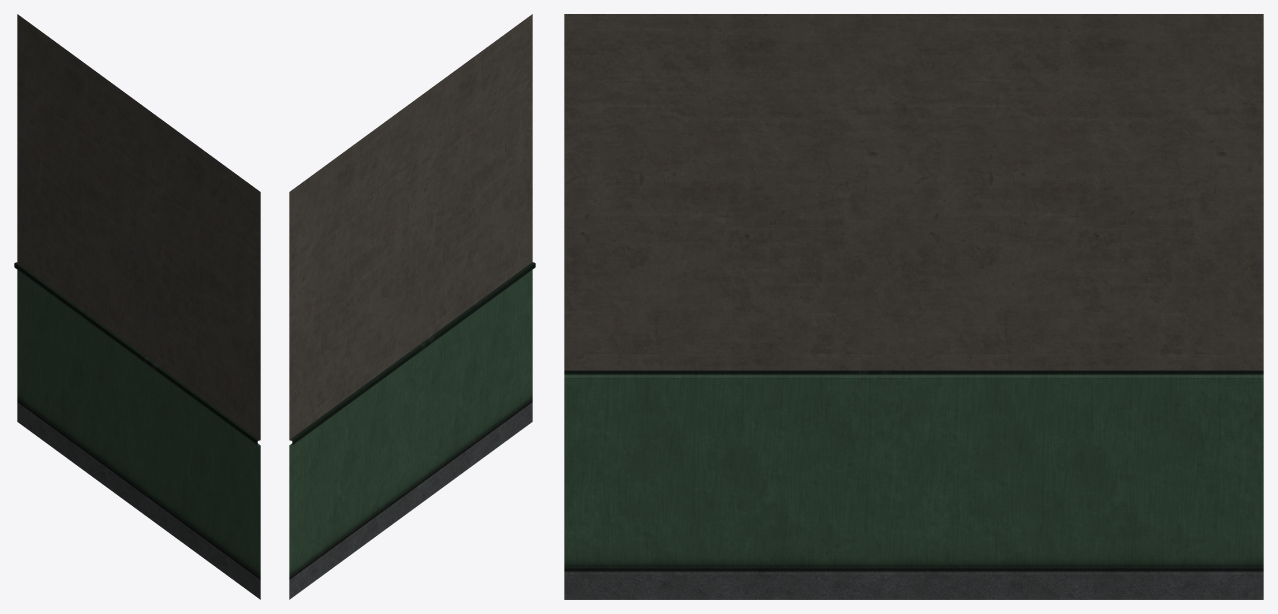
The model's file is Psychiatric_Ward_Infirmary_Wall_4m_Bare.glb.
3 views of the same model, side by side, from view 1: azimuth 30°, elevation 25°; view 2: azimuth 150°, elevation 25°; view 3: azimuth 270°, elevation 25° (orthographic). The views are drawn at different scales.
Visible parts, largest first — view 1: Psychiatric_Ward_Infirmary_Wall_4m_Bare; view 2: Psychiatric_Ward_Infirmary_Wall_4m_Bare; view 3: Psychiatric_Ward_Infirmary_Wall_4m_Bare.
Part boxes in pixels (x1,y1,x2,y2): Psychiatric_Ward_Infirmary_Wall_4m_Bare: (14, 14, 260, 599); Psychiatric_Ward_Infirmary_Wall_4m_Bare: (289, 14, 535, 599); Psychiatric_Ward_Infirmary_Wall_4m_Bare: (564, 14, 1263, 599).
Bounding box in the file's own units: 0.03 × 3.7 × 4.
Materials: 2 (2 with a texture image).
